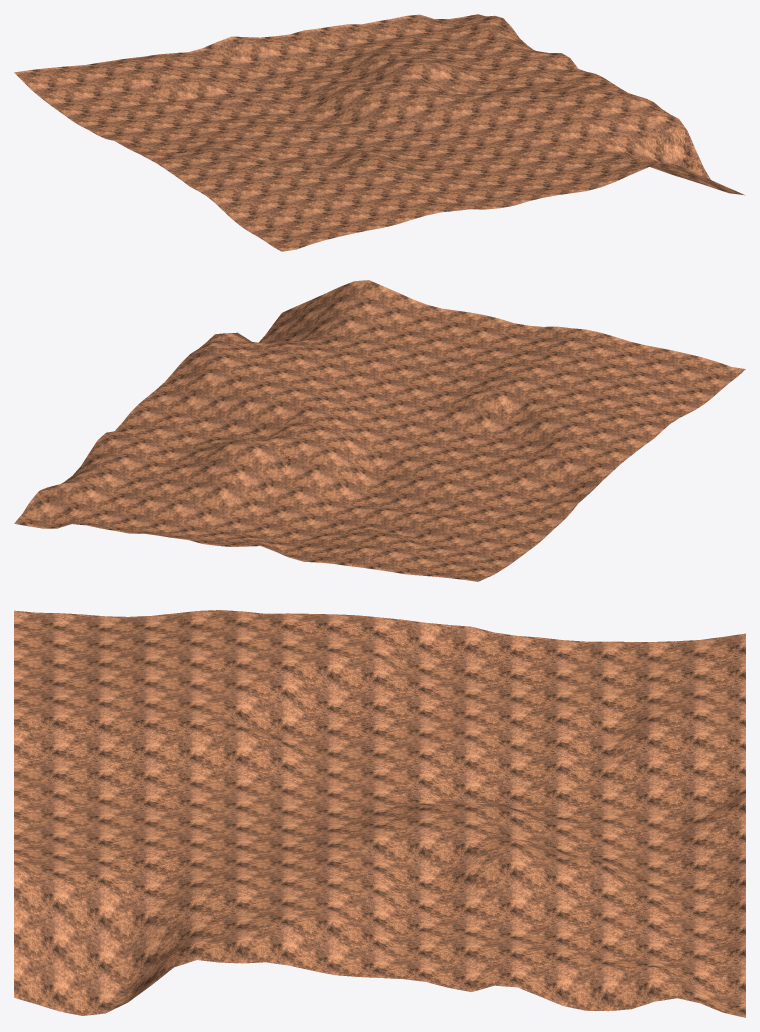
The model's file is terrain_07_13.dae.
3 renders of one model, top to bottom at view 1: azimuth 30°, elevation 25°; view 2: azimuth 150°, elevation 25°; view 3: azimuth 270°, elevation 25°, orthographic. The views are drawn at different scales.
Parts seen in each view (by area): view 1: terrain_07_13-node; view 2: terrain_07_13-node; view 3: terrain_07_13-node.
Boxes of the visible parts, left/top/right/bottom form: terrain_07_13-node: left=14, top=14, right=744, bottom=251; terrain_07_13-node: left=14, top=280, right=745, bottom=581; terrain_07_13-node: left=14, top=610, right=745, bottom=1017.
Size of the model in its own units: 128 by 128 by 19.18.
1 material, 1 textured.
